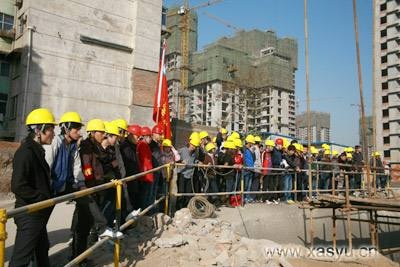none: (286, 144, 296, 156), (339, 152, 347, 161), (301, 144, 308, 154), (354, 145, 361, 153)
red: (128, 124, 142, 143), (140, 126, 152, 144), (151, 125, 163, 142), (275, 138, 283, 150)
yellow: (24, 107, 54, 144), (58, 109, 83, 142), (86, 117, 105, 141), (105, 122, 118, 146), (115, 118, 127, 140), (161, 138, 172, 152), (189, 138, 200, 151), (199, 131, 209, 144), (244, 134, 254, 147), (206, 142, 216, 154), (265, 140, 274, 152), (253, 135, 261, 146), (311, 148, 319, 158), (324, 150, 331, 159), (345, 153, 352, 162)
